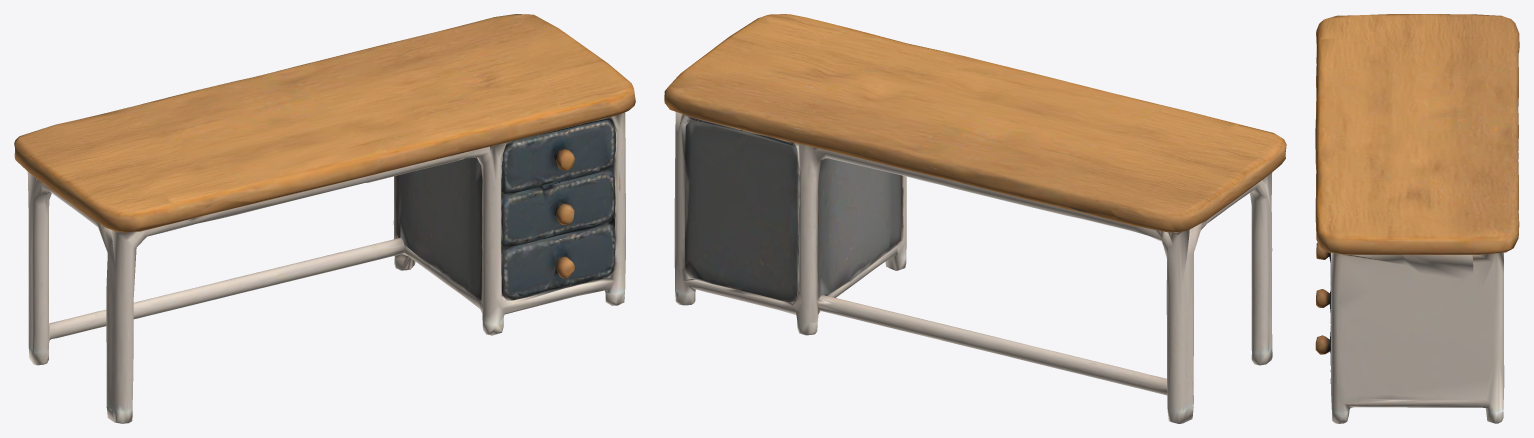
Rendered from study-desk.low.glb.
The picture shows the model from 3 angles, left to right: view 1: azimuth 30°, elevation 25°; view 2: azimuth 150°, elevation 25°; view 3: azimuth 270°, elevation 25°; orthographic projection. The views are drawn at different scales.
Parts seen in each view (by area): view 1: tripo_node_a2fce4ef-5197-4d88-b1a3-64c240ba466b; view 2: tripo_node_a2fce4ef-5197-4d88-b1a3-64c240ba466b; view 3: tripo_node_a2fce4ef-5197-4d88-b1a3-64c240ba466b.
Part boxes in pixels (x1,y1,x2,y2): tripo_node_a2fce4ef-5197-4d88-b1a3-64c240ba466b: [14, 14, 635, 423]; tripo_node_a2fce4ef-5197-4d88-b1a3-64c240ba466b: [664, 14, 1286, 423]; tripo_node_a2fce4ef-5197-4d88-b1a3-64c240ba466b: [1315, 14, 1519, 423].
Bounding box in the file's own units: 1.9 × 0.7398 × 0.7189.
Materials: 1 (1 with a texture image).
